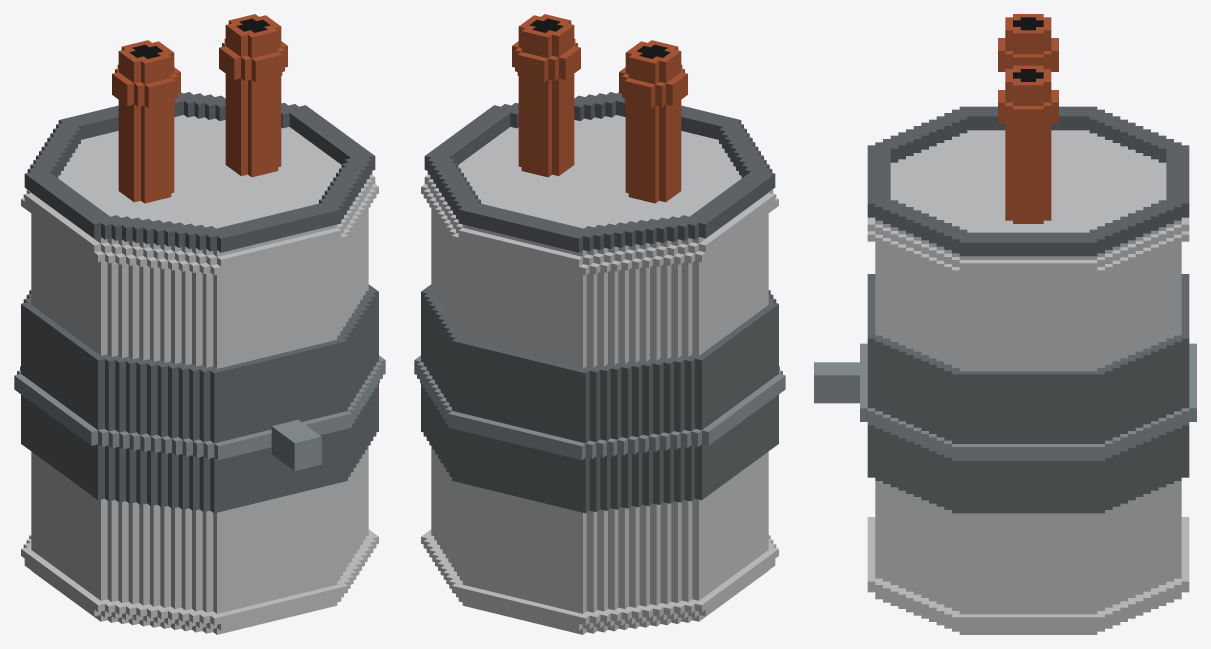
The model's file is filter_liquid_makeshift.glb.
3 renders of one model, left to right at view 1: azimuth 30°, elevation 25°; view 2: azimuth 150°, elevation 25°; view 3: azimuth 270°, elevation 25°, orthographic.
Parts seen in each view (by area): view 1: filter_liquid_makeshift:compound; view 2: filter_liquid_makeshift:compound; view 3: filter_liquid_makeshift:compound.
Part boxes in pixels (x1,y1,x2,y2): filter_liquid_makeshift:compound: [14, 14, 385, 634]; filter_liquid_makeshift:compound: [414, 14, 785, 634]; filter_liquid_makeshift:compound: [814, 14, 1196, 634].
Bounding box in the file's own units: 0.088 × 0.15 × 0.1.
